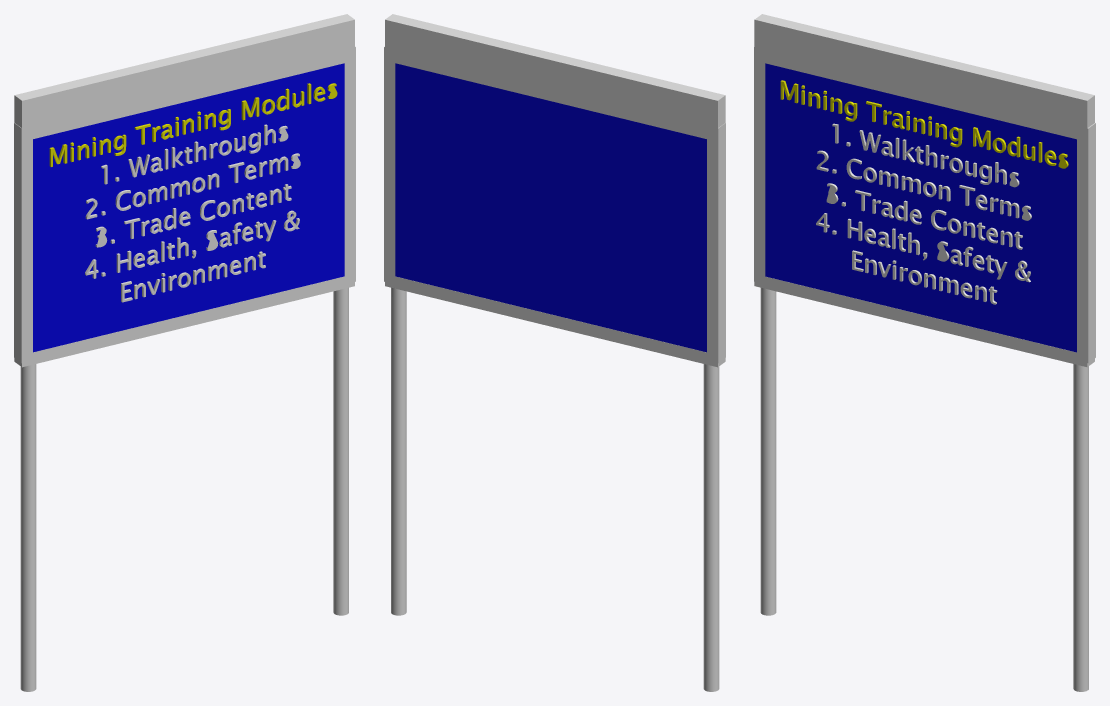
The model's file is Sign_Board.fbx.
The picture shows the model from 3 angles, left to right: view 1: azimuth 30°, elevation 25°; view 2: azimuth 150°, elevation 25°; view 3: azimuth 330°, elevation 25°; orthographic projection.
Parts seen in each view (by area): view 1: pCube1, pCube2, pCylinder2, pCylinder1, pCube6, pCube5, pCube3; view 2: pCube1, pCube2, pCylinder2, pCylinder1, pCube6, pCube5, pCube3; view 3: pCube1, pCube2, pCylinder2, pCylinder1, pCube3, pCube5, pCube6.
Boxes of the visible parts, x1=… form: pCube1: x1=33, y1=63, x2=344, y2=352; pCube2: x1=14, y1=14, x2=354, y2=140; pCylinder2: x1=20, y1=364, x2=36, y2=691; pCylinder1: x1=333, y1=287, x2=348, y2=615; pCube6: x1=14, y1=122, x2=32, y2=362; pCube5: x1=14, y1=274, x2=354, y2=367; pCube3: x1=344, y1=46, x2=355, y2=284; pCube1: x1=395, y1=63, x2=706, y2=352; pCube2: x1=385, y1=14, x2=725, y2=139; pCylinder2: x1=703, y1=364, x2=719, y2=691; pCylinder1: x1=391, y1=287, x2=406, y2=615; pCube6: x1=707, y1=122, x2=725, y2=362; pCube5: x1=385, y1=274, x2=725, y2=367; pCube3: x1=384, y1=46, x2=395, y2=284; pCube1: x1=765, y1=63, x2=1076, y2=352; pCube2: x1=754, y1=14, x2=1094, y2=141; pCylinder2: x1=760, y1=287, x2=776, y2=615; pCylinder1: x1=1073, y1=364, x2=1088, y2=691; pCube3: x1=1077, y1=123, x2=1095, y2=362; pCube5: x1=754, y1=274, x2=1094, y2=367; pCube6: x1=754, y1=47, x2=765, y2=282.
Size of the model in its own units: 17.09 by 28.98 by 0.8074.
